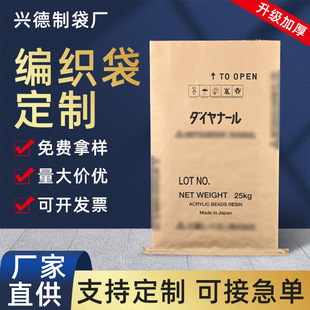Parcel: (150, 41, 285, 255)
